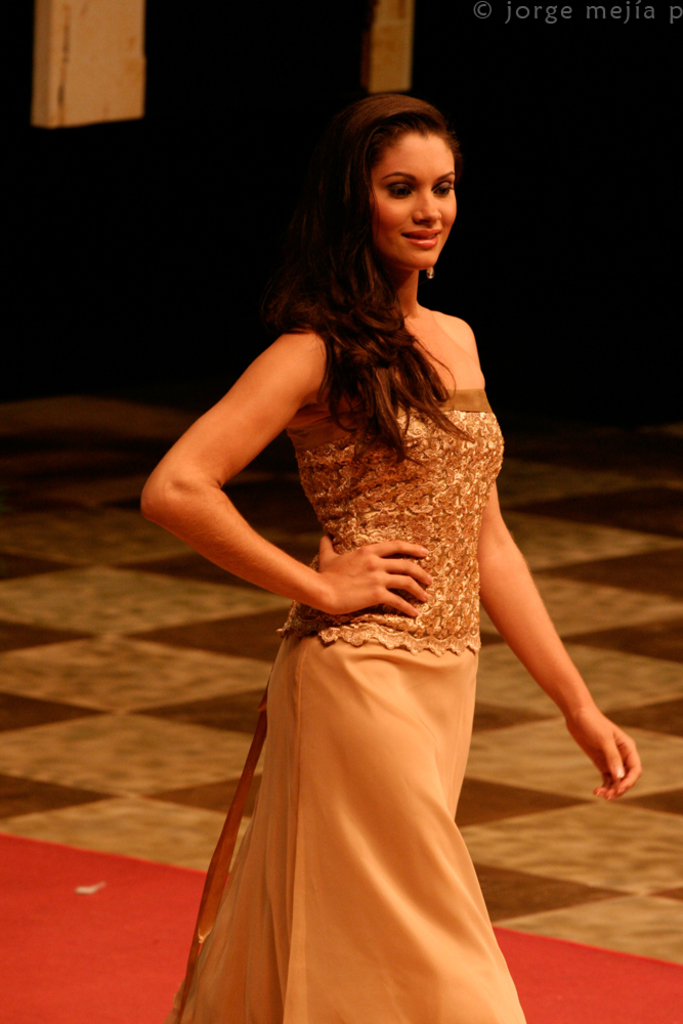Human_hand: (314, 534, 433, 621), (559, 698, 642, 801)
